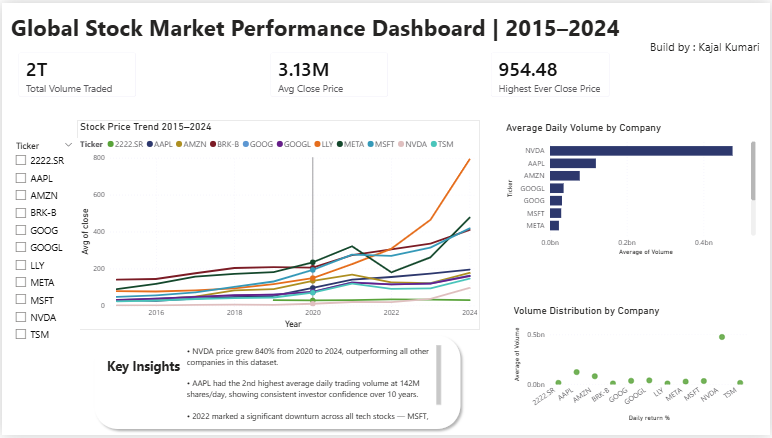

Layout of this report page (visuals, bound fields, positions):
{"tool":"powerbi","page":{"name":"Page 1","canvas":[1280,720],"ordinal":0},"visuals":[{"type":"cardVisual","fields":{"Data":["Sum(StockData.Volume)"]},"box":[10,65,230,108],"z":0},{"type":"cardVisual","fields":{"Data":["Sum(StockData.Close)"]},"box":[430,66,230,108],"z":1000},{"type":"lineChart","title":"Stock Price Trend 2015–2024","fields":{"Category":["StockData.Date.Variation.Date Hierarchy.Year","StockData.Date.Variation.Date Hierarchy.Quarter","StockData.Date.Variation.Date Hierarchy.Month","StockData.Date.Variation.Date Hierarchy.Day"],"Y":["Avg(StockData.Close)"],"Series":["StockData.Ticker"]},"box":[126,194,672,352],"z":2000},{"type":"clusteredBarChart","title":"Average Daily Volume by Company","fields":{"Category":["StockData.Ticker"],"Y":["Avg(StockData.Volume)"]},"box":[834,198,426,228],"z":3000},{"type":"scatterChart","title":"Volume Distribution by Company","fields":{"Y":["Avg(StockData.Volume)"],"X":["StockData.Ticker"]},"box":[848,502,400,200],"z":4000},{"type":"slicer","fields":{"Values":["StockData.Ticker"]},"box":[10,225,120,362.5],"z":5000},{"type":"textbox","box":[10,10,1250,62.5],"z":6000},{"type":"cardVisual","fields":{"Data":["Max(StockData.Close)"]},"box":[798,66,232,108],"z":7000},{"type":"textbox","box":[1076,54,204,36],"z":8000},{"type":"shape","box":[146,546,628,174],"z":8002},{"type":"textbox","box":[170,586,140,48],"z":8003},{"type":"textbox","box":[302,565,434,137],"z":8004}]}

Visuals, with their boxes in screenshot pixels (x1, y1, x2, y2), scaled from the page's 1280x720 canvas onto the 772x438 screenshot:
cardVisual - Sum(StockData.Volume): bbox=[6, 40, 145, 105]
cardVisual - Sum(StockData.Close): bbox=[259, 40, 398, 106]
"Stock Price Trend 2015–2024" lineChart: bbox=[76, 118, 481, 332]
"Average Daily Volume by Company" clusteredBarChart: bbox=[503, 120, 760, 259]
"Volume Distribution by Company" scatterChart: bbox=[511, 305, 753, 427]
slicer - StockData.Ticker: bbox=[6, 137, 78, 357]
textbox: bbox=[6, 6, 760, 44]
cardVisual - Max(StockData.Close): bbox=[481, 40, 621, 106]
textbox: bbox=[649, 33, 771, 55]
shape: bbox=[88, 332, 467, 437]
textbox: bbox=[103, 356, 187, 386]
textbox: bbox=[182, 344, 444, 427]
